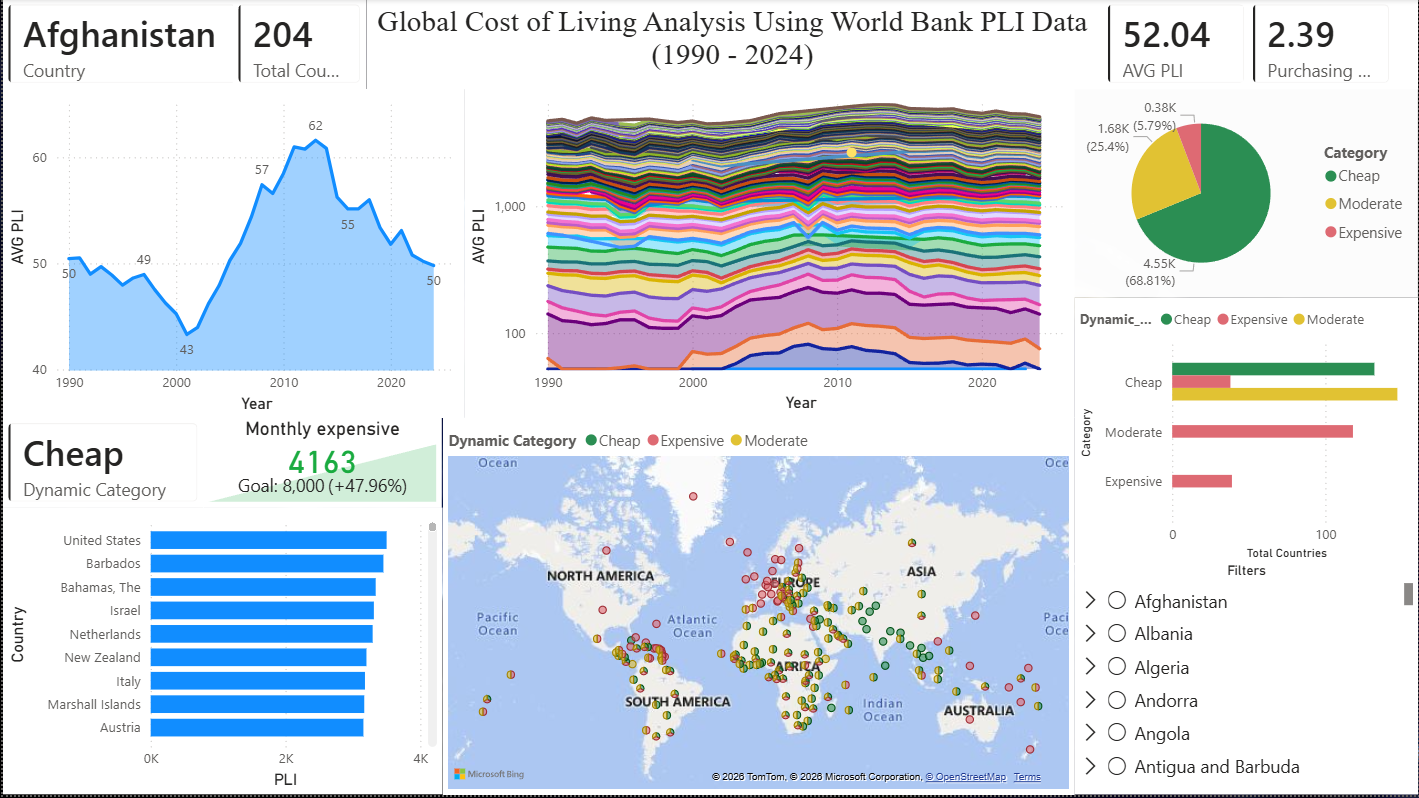

The page's visual inventory and layout, read from the dashboard file:
{"tool":"powerbi","page":{"name":"Page 1","canvas":[1280,720],"ordinal":0},"visuals":[{"type":"cardVisual","fields":{"Data":["filtered_data.AVG PLI","filtered_data.Purchasing Power"]},"box":[974.4,0,305.8,81.4],"z":0},{"type":"areaChart","fields":{"Category":["filtered_data.Year"],"Y":["filtered_data.AVG PLI"]},"box":[0,81.4,417.4,297.7],"z":1000},{"type":"map","fields":{"Category":["filtered_data.Country"],"Series":["filtered_data.Dynamic_Category"]},"box":[397.9,378.7,570.8,341.7],"z":2000},{"type":"barChart","fields":{"Category":["filtered_data.Country"],"Y":["Sum(filtered_data.PLI)"]},"box":[0,460.5,397.7,259.3],"z":3000},{"type":"pieChart","fields":{"Category":["filtered_data.Category"],"Y":["CountNonNull(filtered_data.Country)"]},"box":[967.8,81.4,312.1,188.8],"z":4000},{"type":"listSlicer","title":"Filters","fields":{"Values":["filtered_data.Country","filtered_data.Category"]},"box":[968.6,510.5,311.6,209.3],"z":5000},{"type":"clusteredBarChart","fields":{"Category":["filtered_data.Category"],"Series":["filtered_data.Dynamic_Category"],"Y":["filtered_data.Total Countries"]},"box":[968.6,269.8,311.6,241.9],"z":6000},{"type":"stackedAreaChart","fields":{"Category":["filtered_data.Year"],"Series":["filtered_data.Country"],"Y":["filtered_data.AVG PLI"]},"box":[417.2,81.4,551.8,297.4],"z":7000},{"type":"cardVisual","fields":{"Data":["Min(filtered_data.Country)"]},"box":[0,0,216.3,81.4],"z":8000},{"type":"cardVisual","fields":{"Data":["filtered_data.Total Countries"]},"box":[208.1,0,120.9,81.4],"z":9000},{"type":"textbox","box":[329.1,0,661.6,81.4],"z":10000},{"type":"cardVisual","fields":{"Data":["Min(filtered_data.Dynamic_Category)"]},"box":[0,379.1,181.4,81.4],"z":10001},{"type":"kpi","title":"Monthly expensive","fields":{"Goal":["Base Cost.Base Cost Value"],"TrendLine":["Base Cost.Base Cost"],"Indicator":["Base Cost.Monthly_Cost"]},"box":[181.4,379.1,216.3,81.4],"z":10002}]}

Visuals, with their boxes in screenshot pixels (x1, y1, x2, y2), scaled from the page's 1280x720 canvas onto the 1419x798 screenshot:
cardVisual - filtered_data.AVG PLI x filtered_data.Purchasing Power: x1=1080, y1=0, x2=1418, y2=90
areaChart - filtered_data.Year x filtered_data.AVG PLI: x1=0, y1=90, x2=463, y2=420
map - filtered_data.Country x filtered_data.Dynamic_Category: x1=441, y1=420, x2=1074, y2=797
barChart - filtered_data.Country x Sum(filtered_data.PLI): x1=0, y1=510, x2=441, y2=797
pieChart - filtered_data.Category x CountNonNull(filtered_data.Country): x1=1073, y1=90, x2=1418, y2=299
"Filters" listSlicer: x1=1074, y1=566, x2=1418, y2=797
clusteredBarChart - filtered_data.Category x filtered_data.Dynamic_Category: x1=1074, y1=299, x2=1418, y2=567
stackedAreaChart - filtered_data.Year x filtered_data.Country: x1=463, y1=90, x2=1074, y2=420
cardVisual - Min(filtered_data.Country): x1=0, y1=0, x2=240, y2=90
cardVisual - filtered_data.Total Countries: x1=231, y1=0, x2=365, y2=90
textbox: x1=365, y1=0, x2=1098, y2=90
cardVisual - Min(filtered_data.Dynamic_Category): x1=0, y1=420, x2=201, y2=510
"Monthly expensive" kpi: x1=201, y1=420, x2=441, y2=510
